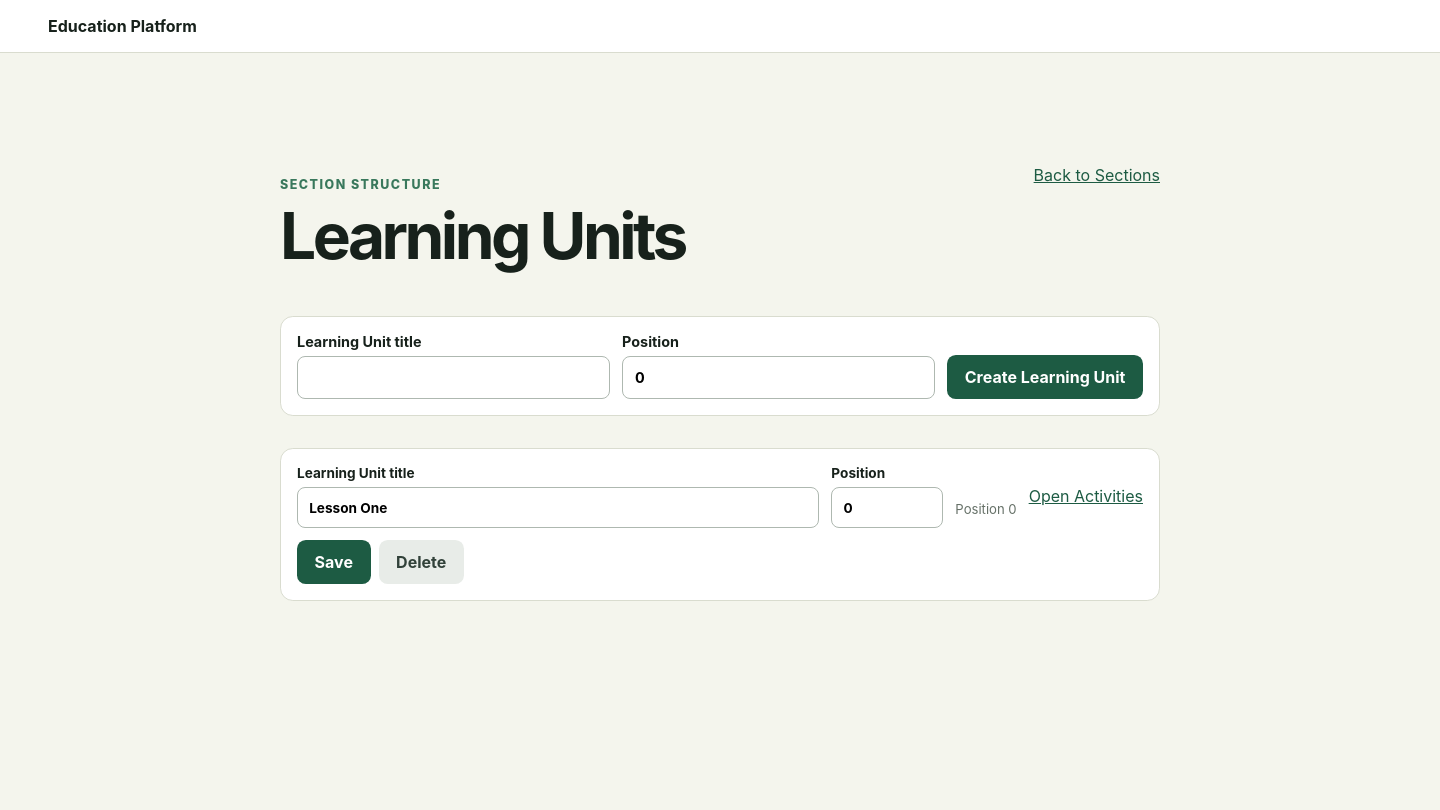
Test: Learning Unit UI › deletes a Learning Unit and refetches the list
This screenshot has width=1440, height=810.
Click the button "Delete" at (421, 562), box [378,540,464,584]
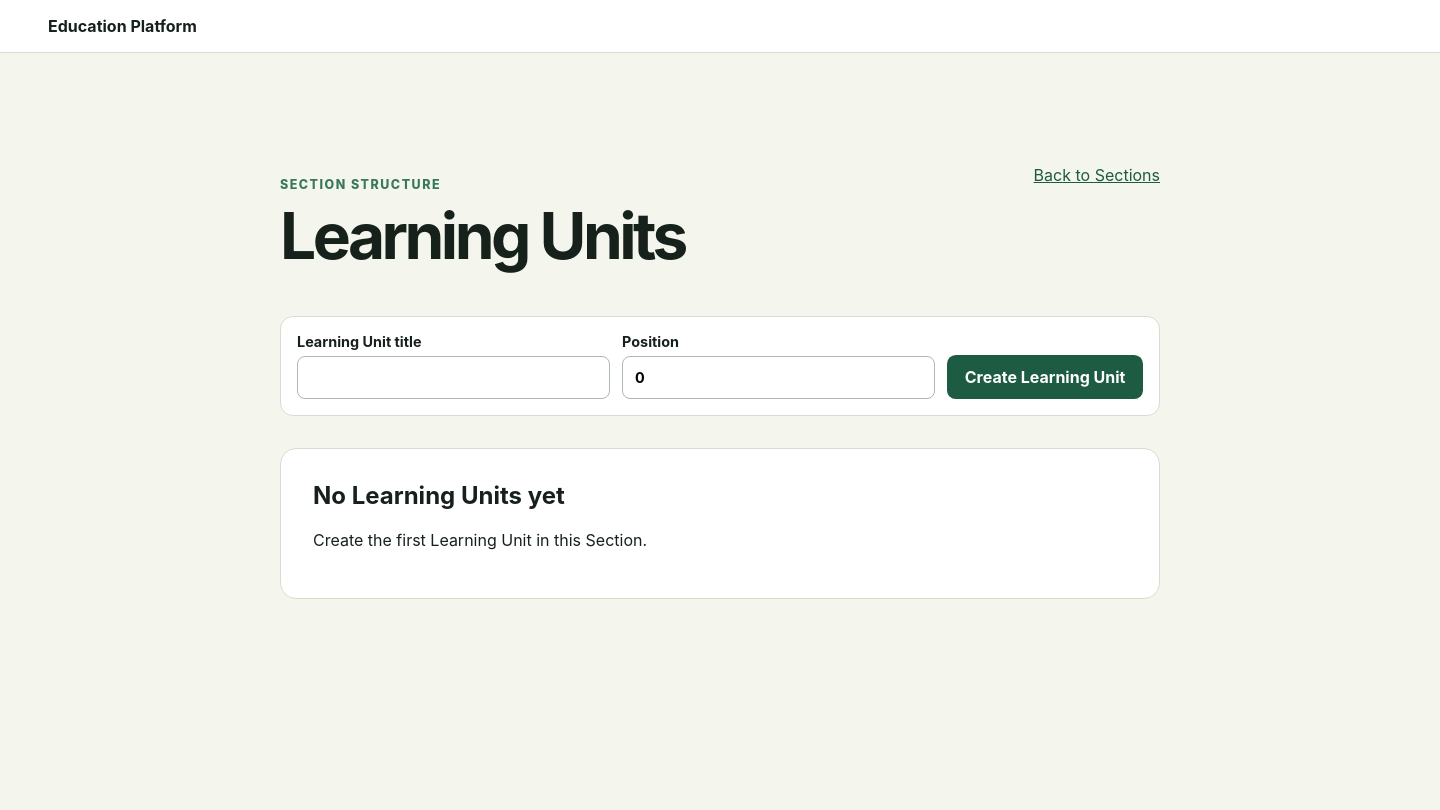
expect the heading "No Learning Units yet" is shown: met, box [313,481,565,510]
